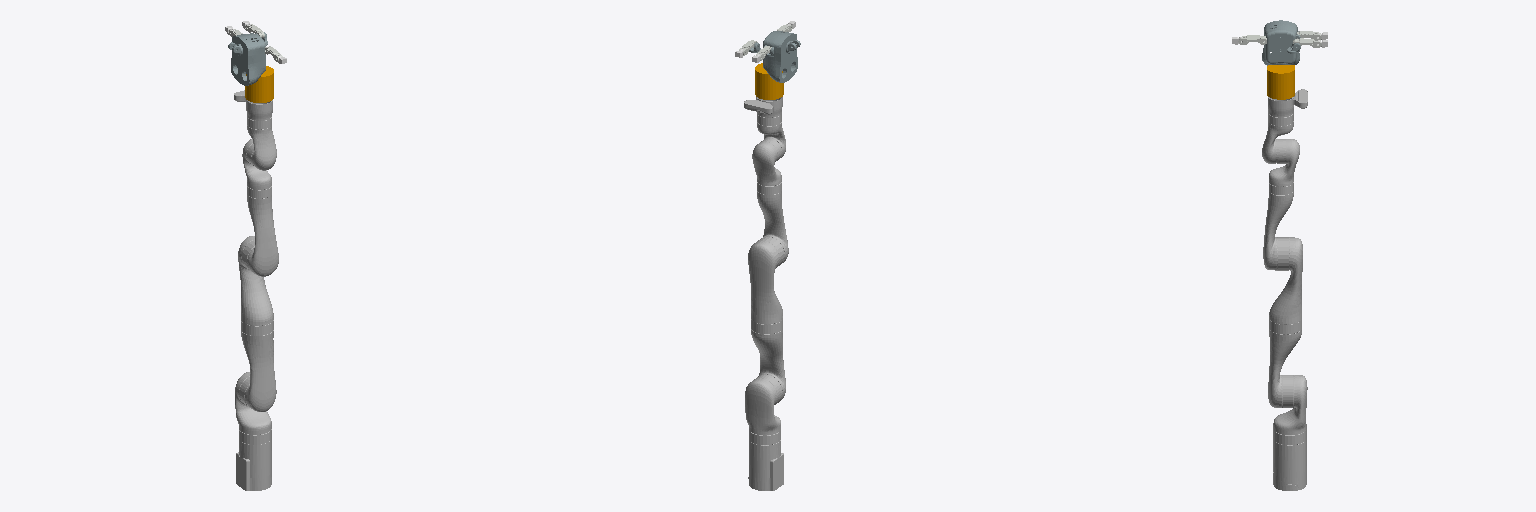
The robot description file, URDF, robot "kuka":
<?xml version="1.0" ?>
<robot name="kuka">
  <link name="iiwa7_link_0">
    <inertial>
      <origin xyz="-0.000648 -0.000166 0.084487" rpy="0 0 0" />
      <mass value="1.697" />
      <inertia ixx="0.004622" ixy="9E-06" ixz="6E-05" iyy="0.004495" iyz="9E-06" izz="0.002079" />
    </inertial>
    <visual>
      <origin xyz="0 0 0" rpy="0 0 0" />
      <geometry>
        <mesh filename="../../urdf/kuka_openhand_description/meshes/kinova/base_link.obj" />
      </geometry>
      <material name="">
        <color rgba="0.75294 0.75294 0.75294 1" />
      </material>
    </visual>
    <collision>
      <origin xyz="0 0 0" rpy="0 0 0" />
      <geometry>
        <mesh filename="../../urdf/kuka_openhand_description/meshes/kinova/base_link.obj" />
      </geometry>
    </collision>
  </link>
  <link name="shoulder_link">
    <inertial>
      <origin xyz="-2.3E-05 -0.010364 -0.07336" rpy="0 0 0" />
      <mass value="1.3773" />
      <inertia ixx="0.00457" ixy="1E-06" ixz="2E-06" iyy="0.004831" iyz="0.000448" izz="0.001409" />
    </inertial>
    <visual>
      <origin xyz="0 0 0" rpy="0 0 0" />
      <geometry>
        <mesh filename="../../urdf/kuka_openhand_description/meshes/kinova/shoulder_link.obj" />
      </geometry>
      <material name="">
        <color rgba="0.75294 0.75294 0.75294 1" />
      </material>
    </visual>
    <collision>
      <origin xyz="0 0 0" rpy="0 0 0" />
      <geometry>
        <mesh filename="../../urdf/kuka_openhand_description/meshes/kinova/shoulder_link.obj" />
      </geometry>
    </collision>
  </link>
  <joint name="Actuator1" type="continuous">
    <origin xyz="0 0 0.15643" rpy="3.1416 2.7629E-18 -4.9305E-36" />
    <parent link="iiwa7_link_0" />
    <child link="shoulder_link" />
    <axis xyz="0 0 1" />
    <limit effort="39" velocity="0.8727" />
  </joint>
  <link name="HalfArm1_link">
    <inertial>
      <origin xyz="-4.4E-05 -0.09958 -0.013278" rpy="0 0 0" />
      <mass value="1.1636" />
      <inertia ixx="0.011088" ixy="5E-06" ixz="0" iyy="0.001072" iyz="-0.000691" izz="0.011255" />
    </inertial>
    <visual>
      <origin xyz="0 0 0" rpy="0 0 0" />
      <geometry>
        <mesh filename="../../urdf/kuka_openhand_description/meshes/kinova/half_arm_1_link.obj" />
      </geometry>
      <material name="">
        <color rgba="0.75294 0.75294 0.75294 1" />
      </material>
    </visual>
    <collision>
      <origin xyz="0 0 0" rpy="0 0 0" />
      <geometry>
        <mesh filename="../../urdf/kuka_openhand_description/meshes/kinova/half_arm_1_link.obj" />
      </geometry>
    </collision>
  </link>
  <joint name="Actuator2" type="revolute">
    <origin xyz="0 0.005375 -0.12838" rpy="1.5708 2.1343E-17 -1.1102E-16" />
    <parent link="shoulder_link" />
    <child link="HalfArm1_link" />
    <axis xyz="0 0 1" />
    <limit lower="-2.41" upper="2.41" effort="39" velocity="0.8727" />
  </joint>
  <link name="half_arm_2_link">
    <inertial>
      <origin xyz="-4.4E-05 -0.006641 -0.117892" rpy="0 0 0" />
      <mass value="1.1636" />
      <inertia ixx="0.010932" ixy="0" ixz="-7E-06" iyy="0.011127" iyz="0.000606" izz="0.001043" />
    </inertial>
    <visual>
      <origin xyz="0 0 0" rpy="0 0 0" />
      <geometry>
        <mesh filename="../../urdf/kuka_openhand_description/meshes/kinova/half_arm_2_link.obj" />
      </geometry>
      <material name="">
        <color rgba="0.75294 0.75294 0.75294 1" />
      </material>
    </visual>
    <collision>
      <origin xyz="0 0 0" rpy="0 0 0" />
      <geometry>
        <mesh filename="../../urdf/kuka_openhand_description/meshes/kinova/half_arm_2_link.obj" />
      </geometry>
    </collision>
  </link>
  <joint name="Actuator3" type="continuous">
    <origin xyz="0 -0.21038 -0.006375" rpy="-1.5708 1.2326E-32 -2.9122E-16" />
    <parent link="HalfArm1_link" />
    <child link="half_arm_2_link" />
    <axis xyz="0 0 1" />
    <limit effort="39" velocity="0.8727" />
  </joint>
  <link name="forearm_link">
    <inertial>
      <origin xyz="-1.8E-05 -0.075478 -0.015006" rpy="0 0 0" />
      <mass value="0.9302" />
      <inertia ixx="0.008147" ixy="-1E-06" ixz="0" iyy="0.000631" iyz="-0.0005" izz="0.008316" />
    </inertial>
    <visual>
      <origin xyz="0 0 0" rpy="0 0 0" />
      <geometry>
        <mesh filename="../../urdf/kuka_openhand_description/meshes/kinova/forearm_link.obj" />
      </geometry>
      <material name="">
        <color rgba="0.75294 0.75294 0.75294 1" />
      </material>
    </visual>
    <collision>
      <origin xyz="0 0 0" rpy="0 0 0" />
      <geometry>
        <mesh filename="../../urdf/kuka_openhand_description/meshes/kinova/forearm_link.obj" />
      </geometry>
    </collision>
  </link>
  <joint name="Actuator4" type="revolute">
    <origin xyz="0 0.006375 -0.21038" rpy="1.5708 -6.6954E-17 -1.6653E-16" />
    <parent link="half_arm_2_link" />
    <child link="forearm_link" />
    <axis xyz="0 0 1" />
    <limit lower="-2.66" upper="2.66" effort="39" velocity="0.8727" />
  </joint>
  <link name="spherical_wrist_1_link">
    <inertial>
      <origin xyz="1E-06 -0.009432 -0.063883" rpy="0 0 0" />
      <mass value="0.6781" />
      <inertia ixx="0.001596" ixy="0" ixz="0" iyy="0.001607" iyz="0.000256" izz="0.000399" />
    </inertial>
    <visual>
      <origin xyz="0 0 0" rpy="0 0 0" />
      <geometry>
        <mesh filename="../../urdf/kuka_openhand_description/meshes/kinova/spherical_wrist_1_link.obj" />
      </geometry>
      <material name="">
        <color rgba="0.75294 0.75294 0.75294 1" />
      </material>
    </visual>
    <collision>
      <origin xyz="0 0 0" rpy="0 0 0" />
      <geometry>
        <mesh filename="../../urdf/kuka_openhand_description/meshes/kinova/spherical_wrist_1_link.obj" />
      </geometry>
    </collision>
  </link>
  <joint name="Actuator5" type="continuous">
    <origin xyz="0 -0.20843 -0.006375" rpy="-1.5708 2.2204E-16 -6.373E-17" />
    <parent link="forearm_link" />
    <child link="spherical_wrist_1_link" />
    <axis xyz="0 0 1" />
    <limit effort="9" velocity="0.8727" />
  </joint>
  <link name="spherical_wrist_2_link">
    <inertial>
      <origin xyz="1E-06 -0.045483 -0.00965" rpy="0 0 0" />
      <mass value="0.6781" />
      <inertia ixx="0.001641" ixy="0" ixz="0" iyy="0.00041" iyz="-0.000278" izz="0.001641" />
    </inertial>
    <visual>
      <origin xyz="0 0 0" rpy="0 0 0" />
      <geometry>
        <mesh filename="../../urdf/kuka_openhand_description/meshes/kinova/spherical_wrist_2_link.obj" />
      </geometry>
      <material name="">
        <color rgba="0.75294 0.75294 0.75294 1" />
      </material>
    </visual>
    <collision>
      <origin xyz="0 0 0" rpy="0 0 0" />
      <geometry>
        <mesh filename="../../urdf/kuka_openhand_description/meshes/kinova/spherical_wrist_2_link.obj" />
      </geometry>
    </collision>
  </link>
  <joint name="Actuator6" type="revolute">
    <origin xyz="0 0.00017505 -0.10593" rpy="1.5708 9.2076E-28 -8.2157E-15" />
    <parent link="spherical_wrist_1_link" />
    <child link="spherical_wrist_2_link" />
    <axis xyz="0 0 1" />
    <limit lower="-2.23" upper="2.23" effort="9" velocity="0.8727" />
  </joint>
  <link name="iiwa7_link_7">
    <inertial>
      <origin xyz="-0.000281 -0.011402 -0.029798" rpy="0 0 0" />
      <mass value="0.5006" />
      <inertia ixx="0.000587" ixy="3E-06" ixz="3E-06" iyy="0.000369" iyz="0.000118" izz="0.000609" />
    </inertial>
    <visual>
      <origin xyz="0 0 0" rpy="0 0 0" />
      <geometry>
        <mesh filename="../../urdf/kuka_openhand_description/meshes/kinova/bracelet_with_vision_link.obj" />
      </geometry>
      <material name="">
        <color rgba="0.75294 0.75294 0.75294 1" />
      </material>
    </visual>
    <collision>
      <origin xyz="0 0 0" rpy="0 0 0" />
      <geometry>
        <mesh filename="../../urdf/kuka_openhand_description/meshes/kinova/bracelet_with_vision_link.obj" />
      </geometry>
    </collision>
  </link>

  <joint name="Actuator7" type="continuous">
    <origin xyz="0 -0.10593 -0.00017505" rpy="-1.5708 -5.5511E-17 9.6396E-17" />
    <parent link="spherical_wrist_2_link" />
    <child link="iiwa7_link_7" />
    <axis xyz="0 0 1" />
    <limit effort="9" velocity="0.8727" />
  </joint>

  <!-- joint between link_ee and gripper -->
  <joint name="iiwa_ft_base_joint" type="fixed">
    <parent link="iiwa7_link_7"/>
    <child link="dummy_ft_link"/>
    <origin rpy="0 0 0" xyz="0 0 -0.11"/>
  </joint>

  <!-- gripper tags -->

   <link name="dummy_ft_link">
    <visual>
      <geometry>
        <cylinder length="0.08" radius="0.04"/>
      </geometry>
      <material name="Grey"/>
    </visual>
    <inertial>
      <origin xyz="0 0 0" rpy="0 0 0"/>
      <mass value="0.1"/>
      <inertia ixx="0.001"  ixy="0"  ixz="0" iyy="0.001" iyz="0" izz="0.001" />
    </inertial>
    <collision>
      <origin xyz="0 0 0" rpy="0 0 0"/>
      <geometry>
        <cylinder length="0.08" radius="0.04"/>
      </geometry>
    </collision>
  </link>


  <joint name="iiwa_gripper_base_joint" type="fixed">
    <parent link="iiwa7_link_7"/>
    <child link="gripper_base_link"/>
    <origin rpy="0 -1.57079632679 0" xyz="0 0 -0.21"/>
  </joint>

  <link name="gripper_base_link">
    <visual>
      <origin rpy="1.57079632679 0 -1.57079632679" xyz="0.06 0.017 0"/>
      <origin rpy="0 0 0" xyz="0 0 0"/>
      <geometry>
        <mesh filename="../../urdf/kuka_openhand_description/meshes/yale_openhand_O/base_link.obj"/>
      </geometry>
  <material name="coolgrey" >
    <color rgba="0.5843137254901961 0.6392156862745098 0.6509803921568628 1.0" />
  </material>
    </visual>
    <inertial>
      <origin rpy="0 0 0" xyz="0.03 0 0."/>
      <mass value="0.7"/>
      <inertia ixx="0.001" ixy="0.0" ixz="0.0" iyy="0.001" iyz="0.0" izz="0.001"/>
    </inertial>
    <collision>
      <origin rpy="1.57079632679 0 -1.57079632679" xyz="0.06 0.017 0"/>
      <geometry>
        <mesh filename="../../urdf/kuka_openhand_description/meshes/yale_openhand_O/base_link.obj"/>
      </geometry>
    </collision>
  </link>

  <link name="finger_1_1">
     <contact>
        <lateral_friction value="1"/>
        <rolling_friction value="0.1"/>
        <contact_cfm value="0.0"/>
        <contact_erp value="1.0"/>
      </contact>
    <inertial>
      <origin rpy="0 0 0" xyz="0 0 0"/>
      <mass value="0.05"/>
      <inertia ixx="0.0001" ixy="0.0" ixz="0.0" iyy="0.0001" iyz="0.0" izz="0.0001"/>
    </inertial>
    <visual>
  <material name="coolgrey" >
    <color rgba="0.5843137254901961 0.6392156862745098 0.6509803921568628 1.0" />
  </material>
      <origin rpy="1.57079632679 3.14159265359 -1.57079632679" xyz="-0.00 0.0 0.00"/>
      <geometry>
        <!-- <cylinder length="0.002" radius="0.018" /> -->
        <mesh filename="../../urdf/kuka_openhand_description/meshes/yale_openhand_O/swivel_1.obj"/>
      </geometry>
    </visual>
    <collision>
      <origin rpy="0 1.57079632679 0 " xyz="0.00 0.0 0.00"/>
      <geometry>
        <cylinder length="0.002" radius="0.018"/>
      </geometry>
    </collision>
  </link>

  <link name="finger_1_2">
        <contact>
        <lateral_friction value="1"/>
        <rolling_friction value="0.1"/>
        <contact_cfm value="0.0"/>
        <contact_erp value="1.0"/>
      </contact>
    <inertial>
      <origin rpy="0 0 0" xyz="0 0 0"/>
      <mass value="0.05"/>
      <inertia ixx="0.0001" ixy="0.0" ixz="0.0" iyy="0.0001" iyz="0.0" izz="0.0001"/>
    </inertial>
    <visual>
  <material name="lightgrey" >
    <color rgba="0.8470588235294118 0.8627450980392157 0.8392156862745098 1.0" />
  </material>
      <origin rpy="0 -3.141592653592 2.4" xyz="-0.00 0.0753 0.008"/>
      <geometry>
        <mesh filename="../../urdf/kuka_openhand_description/meshes/yale_openhand_O/proximal_O.obj" scale="0.00100 0.00100 0.00100"/>
      </geometry>
    </visual>
    <collision>
      <origin rpy="0 -3.141592653592 2.4" xyz="-0.00 0.0753 0.008"/>
      <geometry>
        <mesh filename="../../urdf/kuka_openhand_description/meshes/yale_openhand_O/proximal_O.obj" scale="0.00100 0.00100 0.00100"/>
      </geometry>
    </collision>
  </link>

    <link name="mount_1_3">
      <inertial>
      <origin rpy="0 0 0" xyz="0 0 0"/>
      <mass value="0.05"/>
      <inertia ixx="0.0001" ixy="0.0" ixz="0.0" iyy="0.0001" iyz="0.0" izz="0.0001"/>
    </inertial>
    <visual>
      <geometry>
        <mesh filename="../../urdf/kuka_openhand_description/meshes/allsight/allsight_mount.obj"/>
      </geometry>
      <material name="white">
        <color rgba=".9 .9 .9 1"/>
      </material>
    </visual>
     <collision>
           <geometry>
        <mesh filename="../../urdf/kuka_openhand_description/meshes/allsight/allsight_mount.obj"/>
      </geometry>
    </collision>
  </link>

  <link name="finger_1_3">
      <inertial>
      <!--                  <origin xyz="-0.005 0.03 0" rpy="0 0 0"/>-->
      <origin rpy="0 0 0" xyz="0 0 0"/>
      <mass value="0.05"/>
      <inertia ixx="0.0001" ixy="0.0" ixz="0.0" iyy="0.0001" iyz="0.0" izz="0.0001"/>
    </inertial>
    <visual>
      <geometry>
        <mesh filename="../../urdf/kuka_openhand_description/meshes/allsight/allsight_fine01.obj"/>
      </geometry>
      <material name="white">
        <color rgba=".9 .9 .9 1"/>
      </material>
    </visual>
     <collision>
     <!--
            <origin xyz="0.016 0 0" rpy="0 -1.57079632679 0"/>
            <geometry>
                   <cylinder radius="0.012" length="0.032" />
            </geometry>
     -->
           <geometry>
        <mesh filename="../../urdf/kuka_openhand_description/meshes/allsight/allsight_fine01.obj"/>
      </geometry>
    </collision>
  </link>

  <link name="finger_2_1">
        <contact>
        <lateral_friction value="1"/>
        <rolling_friction value="0.1"/>
        <contact_cfm value="0.0"/>
        <contact_erp value="1.0"/>
      </contact>
    <inertial>
      <origin rpy="0 0 0" xyz="0 0 0"/>
      <mass value="0.05"/>
      <inertia ixx="0.0001" ixy="0.0" ixz="0.0" iyy="0.0001" iyz="0.0" izz="0.0001"/>
    </inertial>
    <visual>
  <material name="coolgrey" >
    <color rgba="0.5843137254901961 0.6392156862745098 0.6509803921568628 1.0" />
  </material>
      <origin rpy="1.57079632679 3.14159265359 -1.57079632679" xyz="-0.00 0.0 0.00"/>
      <geometry>
        <mesh filename="../../urdf/kuka_openhand_description/meshes/yale_openhand_O/swivel_1.obj"/>
      </geometry>
    </visual>
    <collision>
      <origin rpy="0 1.57079632679 0 " xyz="0.00 0.0 0.00"/>
      <geometry>
        <cylinder length="0.002" radius="0.018"/>
      </geometry>
    </collision>
  </link>

  <link name="finger_2_2">
        <contact>
        <lateral_friction value="1"/>
        <rolling_friction value="0.1"/>
        <contact_cfm value="0.0"/>
        <contact_erp value="1.0"/>
      </contact>
    <inertial>
      <origin rpy="0 0 0" xyz="0 0 0"/>
      <mass value="0.05"/>
      <inertia ixx="0.0001" ixy="0.0" ixz="0.0" iyy="0.0001" iyz="0.0" izz="0.0001"/>
    </inertial>
    <visual>
  <material name="lightgrey" >
    <color rgba="0.8470588235294118 0.8627450980392157 0.8392156862745098 1.0" />
  </material>
      <origin rpy="0 -3.141592653592 2.4" xyz="-0.00 0.0753 0.008"/>
      <geometry>
        <mesh filename="../../urdf/kuka_openhand_description/meshes/yale_openhand_O/proximal_O.obj" scale="0.00100 0.00100 0.00100"/>
      </geometry>
    </visual>
    <collision>
      <origin rpy="0 -3.141592653592 2.4" xyz="-0.00 0.0753 0.008"/>
      <geometry>
        <mesh filename="../../urdf/kuka_openhand_description/meshes/yale_openhand_O/proximal_O.obj" scale="0.00100 0.00100 0.00100"/>
      </geometry>
    </collision>
  </link>

   <link name="mount_2_3">
      <inertial>
      <origin rpy="0 0 0" xyz="0 0 0"/>
      <mass value="0.05"/>
      <inertia ixx="0.0001" ixy="0.0" ixz="0.0" iyy="0.0001" iyz="0.0" izz="0.0001"/>
    </inertial>
    <visual>
      <geometry>
        <mesh filename="../../urdf/kuka_openhand_description/meshes/allsight/allsight_mount.obj"/>
      </geometry>
      <material name="white">
        <color rgba=".9 .9 .9 1"/>
      </material>
    </visual>
     <collision>
           <geometry>
        <mesh filename="../../urdf/kuka_openhand_description/meshes/allsight/allsight_mount.obj"/>
      </geometry>
    </collision>
  </link>

  <link name="finger_2_3">

      <inertial>
      <origin rpy="0 0 0" xyz="0 0 0"/>
      <mass value="0.05"/>
      <inertia ixx="0.0001" ixy="0.0" ixz="0.0" iyy="0.0001" iyz="0.0" izz="0.0001"/>
    </inertial>
    <visual>
      <geometry>
        <mesh filename="../../urdf/kuka_openhand_description/meshes/allsight/allsight_fine01.obj"/>
      </geometry>
      <material name="white">
        <color rgba=".9 .9 .9 1"/>
      </material>
    </visual>
     <collision>
     <!--
            <origin xyz="0.016 0 0" rpy="0 -1.57079632679 0"/>
            <geometry>
                   <cylinder radius="0.012" length="0.032" />
            </geometry>
     -->
           <geometry>
        <mesh filename="../../urdf/kuka_openhand_description/meshes/allsight/allsight_fine01.obj"/>
      </geometry>
    </collision>
  </link>

  <link name="finger_3_2">
        <contact>
        <lateral_friction value="1"/>
        <rolling_friction value="0.1"/>
        <contact_cfm value="0.0"/>
        <contact_erp value="1.0"/>
      </contact>
    <inertial>
      <origin rpy="0 0 0" xyz="0 0 0"/>
      <mass value="0.05"/>
      <inertia ixx="0.0001" ixy="0.0" ixz="0.0" iyy="0.0001" iyz="0.0" izz="0.0001"/>
    </inertial>
    <visual>
  <material name="lightgrey" >
    <color rgba="0.8470588235294118 0.8627450980392157 0.8392156862745098 1.0" />
  </material>
      <origin rpy="0 -3.141592653592 2.4" xyz="-0.00 0.0753 0.008"/>
      <geometry>
        <mesh filename="../../urdf/kuka_openhand_description/meshes/yale_openhand_O/proximal_O.obj" scale="0.00100 0.00100 0.00100"/>
      </geometry>
    </visual>
    <collision>
      <origin rpy="0 -3.141592653592 2.4" xyz="-0.00 0.0753 0.008"/>
      <geometry>
        <mesh filename="../../urdf/kuka_openhand_description/meshes/yale_openhand_O/proximal_O.obj" scale="0.00100 0.00100 0.00100"/>
      </geometry>
    </collision>
  </link>

    <link name="mount_3_3">
      <inertial>
      <origin rpy="0 0 0" xyz="0 0 0"/>
      <mass value="0.05"/>
      <inertia ixx="0.0001" ixy="0.0" ixz="0.0" iyy="0.0001" iyz="0.0" izz="0.0001"/>
    </inertial>
    <visual>
      <geometry>
        <mesh filename="../../urdf/kuka_openhand_description/meshes/allsight/allsight_mount.obj"/>
      </geometry>
      <material name="white">
        <color rgba=".9 .9 .9 1"/>
      </material>
    </visual>
     <collision>
           <geometry>
        <mesh filename="../../urdf/kuka_openhand_description/meshes/allsight/allsight_mount.obj"/>
      </geometry>
    </collision>
  </link>

  <link name="finger_3_3">

      <inertial>
      <origin rpy="0 0 0" xyz="0 0 0"/>
      <mass value="0.05"/>
      <inertia ixx="0.0001" ixy="0.0" ixz="0.0" iyy="0.0001" iyz="0.0" izz="0.0001"/>
    </inertial>
    <visual>
      <geometry>
        <mesh filename="../../urdf/kuka_openhand_description/meshes/allsight/allsight_fine01.obj"/>
      </geometry>
      <material name="white">
        <color rgba=".9 .9 .9 1"/>
      </material>
    </visual>
     <collision>
     <!--
            <origin xyz="0.016 0 0" rpy="0 -1.57079632679 0"/>
            <geometry>
                   <cylinder radius="0.012" length="0.032" />
            </geometry>
     -->
           <geometry>
        <mesh filename="../../urdf/kuka_openhand_description/meshes/allsight/allsight_fine01.obj"/>
      </geometry>
    </collision>
  </link>

  <!-- Joints -->

  <joint name="base_to_finger_1_1" type="revolute">
    <origin rpy="3.14159265359 0 0" xyz="-0.003 -0.034 -0.027"/>
    <parent link="gripper_base_link"/>
    <child link="finger_1_1"/>
    <limit effort="3" lower="0" upper="1.57079632679" velocity="2"/>
    <axis xyz="1 0 0"/>
    <dynamics friction="10" damping="10" />
  </joint>

  <joint name="finger_1_1_to_finger_1_2" type="revolute">
    <origin rpy="0 0 0" xyz="-0.023 0.00725 0"/>
    <parent link="finger_1_1"/>
    <child link="finger_1_2"/>
    <limit effort="3" lower="-0.1" upper="3.0" velocity="2"/>
    <axis xyz="0 0 1"/>
    <dynamics friction="10" damping="10" />
  </joint>

   <joint name="finger_1_2_to_finger_1_3" type="revolute">
    <origin rpy="0 0 1.57079632679" xyz="0.0008 0.063 0"/>
    <parent link="finger_1_2"/>
    <child link="mount_1_3"/>
    <limit effort="3" lower="0.0" upper="1.27" velocity="2"/>
    <axis xyz="0 0 1"/>
    <dynamics friction="10" damping="10" />
  </joint>

    <joint name="finger_1_2_to_finger_1_3_tip" type="fixed">
    <origin rpy="1.57079632679 0 0" xyz="0.025 0.003 0"/>
    <parent link="mount_1_3"/>
    <child link="finger_1_3"/>
  </joint>

  <joint name="base_to_finger_2_1" type="revolute">
    <origin rpy="3.14159265359 0 0" xyz="-0.003 -0.034 0.027"/>
    <parent link="gripper_base_link"/>
    <child link="finger_2_1"/>
    <limit effort="3" lower="-1.57079632679" upper="0" velocity="2"/>
    <axis xyz="1 0 0"/>
    <dynamics friction="10" damping="10" />
  </joint>

  <joint name="finger_2_1_to_finger_2_2" type="revolute">
    <origin rpy="0 0 0" xyz="-0.02 0.00725 0"/>
    <parent link="finger_2_1"/>
    <child link="finger_2_2"/>
    <limit effort="3" lower="-0.1" upper="3.0" velocity="2"/>
    <axis xyz="0 0 1"/>
    <dynamics friction="10" damping="10" />
  </joint>

  <joint name="finger_2_2_to_finger_2_3" type="revolute">
    <origin rpy="0 0 1.57079632679" xyz="0.0008 0.063 0"/>
    <parent link="finger_2_2"/>
    <child link="mount_2_3"/>
    <limit effort="3" lower="0.0" upper="1.27" velocity="2"/>
    <axis xyz="0 0 1"/>
    <dynamics friction="10" damping="10" />
  </joint>

   <joint name="finger_2_2_to_finger_2_3_tip" type="fixed">
    <origin rpy="1.57079632679 0 0" xyz="0.025 0.003 0"/>
    <parent link="mount_2_3"/>
    <child link="finger_2_3"/>
  </joint>

  <joint name="base_to_finger_3_2" type="revolute">
    <origin rpy="0 0 0" xyz="-0.023 0.047 0.000000"/>
    <parent link="gripper_base_link"/>
    <child link="finger_3_2"/>
    <limit effort="3" lower="-0.1" upper="3.0" velocity="2"/>
    <axis xyz="0 0 1"/>
    <dynamics friction="10" damping="10" />
  </joint>

  <joint name="finger_3_2_to_finger_3_3" type="revolute">
    <origin rpy="0 0 1.57079632679" xyz="0.0008 0.063 0"/>
    <parent link="finger_3_2"/>
    <child link="mount_3_3"/>
    <limit effort="3" lower="0.0" upper="1.27" velocity="2"/>
    <axis xyz="0 0 1"/>
    <dynamics friction="10" damping="10" />
  </joint>

  <joint name="finger_3_2_to_finger_3_3_tip" type="fixed">
    <origin rpy="1.57079632679 0 0" xyz="0.025 0.003 0"/>
    <parent link="mount_3_3"/>
    <child link="finger_3_3"/>
  </joint>

     <!--Used for calculating pose and Jacobian.
    Joint connects hand to dummy link located at midpoint between bottoms of fingertips (when centered).-->

  <joint name="iiwa7_joint_ee" type="fixed">
    <parent link="dummy_ft_link"/>
    <child link="kuka_fingertip_centered"/>
    <origin rpy="0 0 0" xyz="0.00 -0.01 0.23"/>
  </joint>

  <link name="kuka_fingertip_centered" />

</robot>

--- Facts derived from the render (not from the file) ---
The picture shows the robot from 3 angles, left to right: view 1: azimuth 30°, elevation 25°; view 2: azimuth 150°, elevation 25°; view 3: azimuth 270°, elevation 25°; orthographic projection.
Robot: kuka — 22 links, 21 joints (11 revolute, 4 continuous, 6 fixed); root link iiwa7_link_0; default pose: every joint at zero.
Links seen in each view (by area): view 1: HalfArm1_link, forearm_link, iiwa7_link_0, half_arm_2_link, gripper_base_link, shoulder_link, spherical_wrist_2_link, spherical_wrist_1_link, dummy_ft_link, iiwa7_link_7; view 2: half_arm_2_link, iiwa7_link_0, shoulder_link, HalfArm1_link, gripper_base_link, forearm_link, spherical_wrist_1_link, dummy_ft_link, spherical_wrist_2_link, iiwa7_link_7; view 3: half_arm_2_link, iiwa7_link_0, HalfArm1_link, shoulder_link, forearm_link, gripper_base_link, spherical_wrist_1_link, dummy_ft_link, spherical_wrist_2_link, iiwa7_link_7.
Boxes of the visible links, left/top/right/bottom form: HalfArm1_link: left=241, top=320, right=276, bottom=411; forearm_link: left=247, top=186, right=278, bottom=276; iiwa7_link_0: left=236, top=429, right=271, bottom=490; half_arm_2_link: left=238, top=236, right=273, bottom=325; gripper_base_link: left=228, top=33, right=265, bottom=85; shoulder_link: left=235, top=372, right=271, bottom=434; spherical_wrist_2_link: left=247, top=117, right=276, bottom=170; spherical_wrist_1_link: left=242, top=139, right=271, bottom=189; dummy_ft_link: left=245, top=66, right=273, bottom=102; iiwa7_link_7: left=234, top=90, right=272, bottom=120; half_arm_2_link: left=748, top=237, right=784, bottom=324; iiwa7_link_0: left=748, top=431, right=783, bottom=490; shoulder_link: left=745, top=374, right=782, bottom=435; HalfArm1_link: left=751, top=320, right=785, bottom=402; gripper_base_link: left=763, top=31, right=800, bottom=82; forearm_link: left=757, top=182, right=788, bottom=262; spherical_wrist_1_link: left=752, top=138, right=781, bottom=185; dummy_ft_link: left=755, top=63, right=783, bottom=99; spherical_wrist_2_link: left=757, top=114, right=785, bottom=157; iiwa7_link_7: left=744, top=97, right=782, bottom=117; half_arm_2_link: left=1269, top=237, right=1302, bottom=324; iiwa7_link_0: left=1273, top=429, right=1306, bottom=490; HalfArm1_link: left=1268, top=319, right=1301, bottom=407; shoulder_link: left=1273, top=375, right=1307, bottom=434; forearm_link: left=1263, top=182, right=1293, bottom=270; gripper_base_link: left=1262, top=20, right=1299, bottom=65; spherical_wrist_1_link: left=1269, top=139, right=1299, bottom=186; dummy_ft_link: left=1267, top=65, right=1294, bottom=99; spherical_wrist_2_link: left=1262, top=113, right=1293, bottom=163; iiwa7_link_7: left=1268, top=89, right=1307, bottom=117.
Size in the robot's own frame: 0.139 by 0.2661 by 1.39 metres.
17 mesh visuals loaded from 13 distinct referenced files (12 OBJ); not drawn: 3 (reference not matched to a file when rendering).
